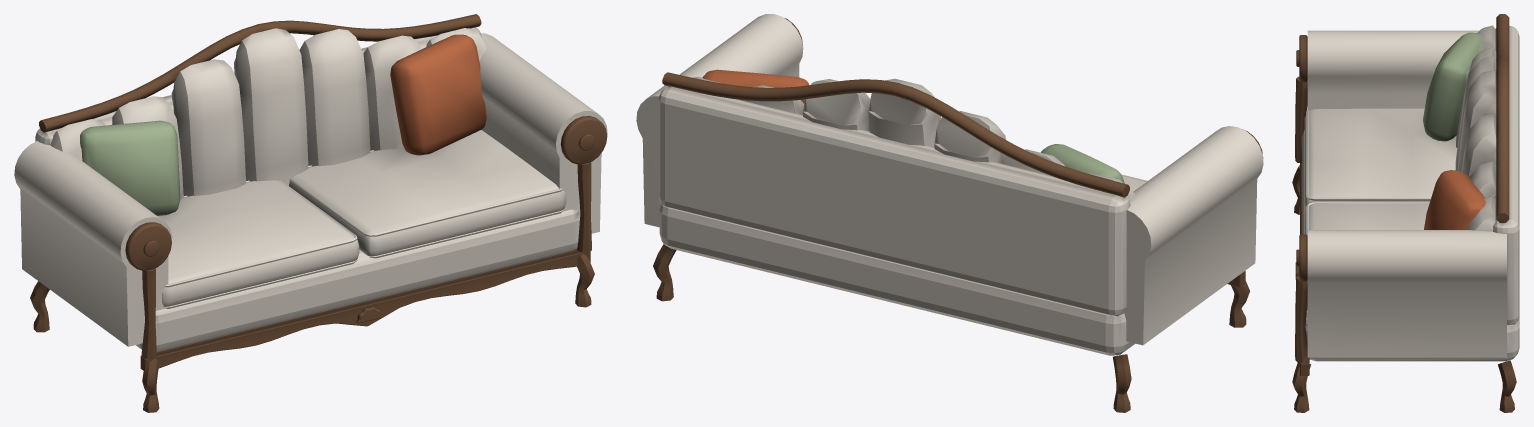
The model's file is sofa.glb.
3 views of the same model, side by side, from view 1: azimuth 30°, elevation 25°; view 2: azimuth 150°, elevation 25°; view 3: azimuth 270°, elevation 25° (orthographic). The views are drawn at different scales.
Parts seen in each view (by area): view 1: sofa, seat; view 2: sofa; view 3: sofa, seat.
Part boxes in pixels (x1,y1,x2,y2): sofa: (14, 14, 607, 412); seat: (157, 130, 566, 308); sofa: (636, 14, 1263, 412); sofa: (1292, 14, 1519, 412); seat: (1304, 108, 1457, 312).
Bounding box in the file's own units: 1.88 × 0.9349 × 0.8104.
